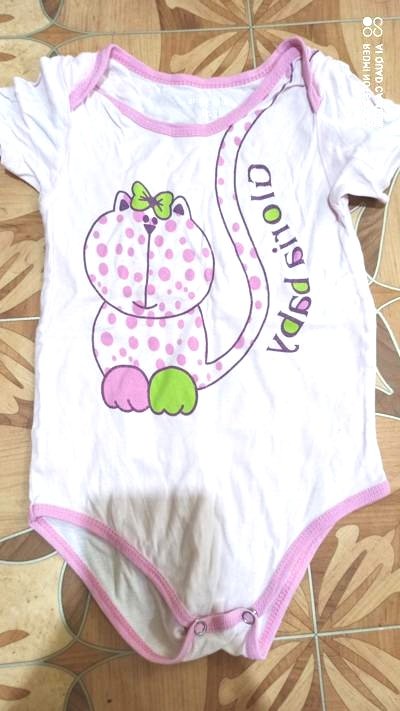Body: (2, 36, 393, 659)
